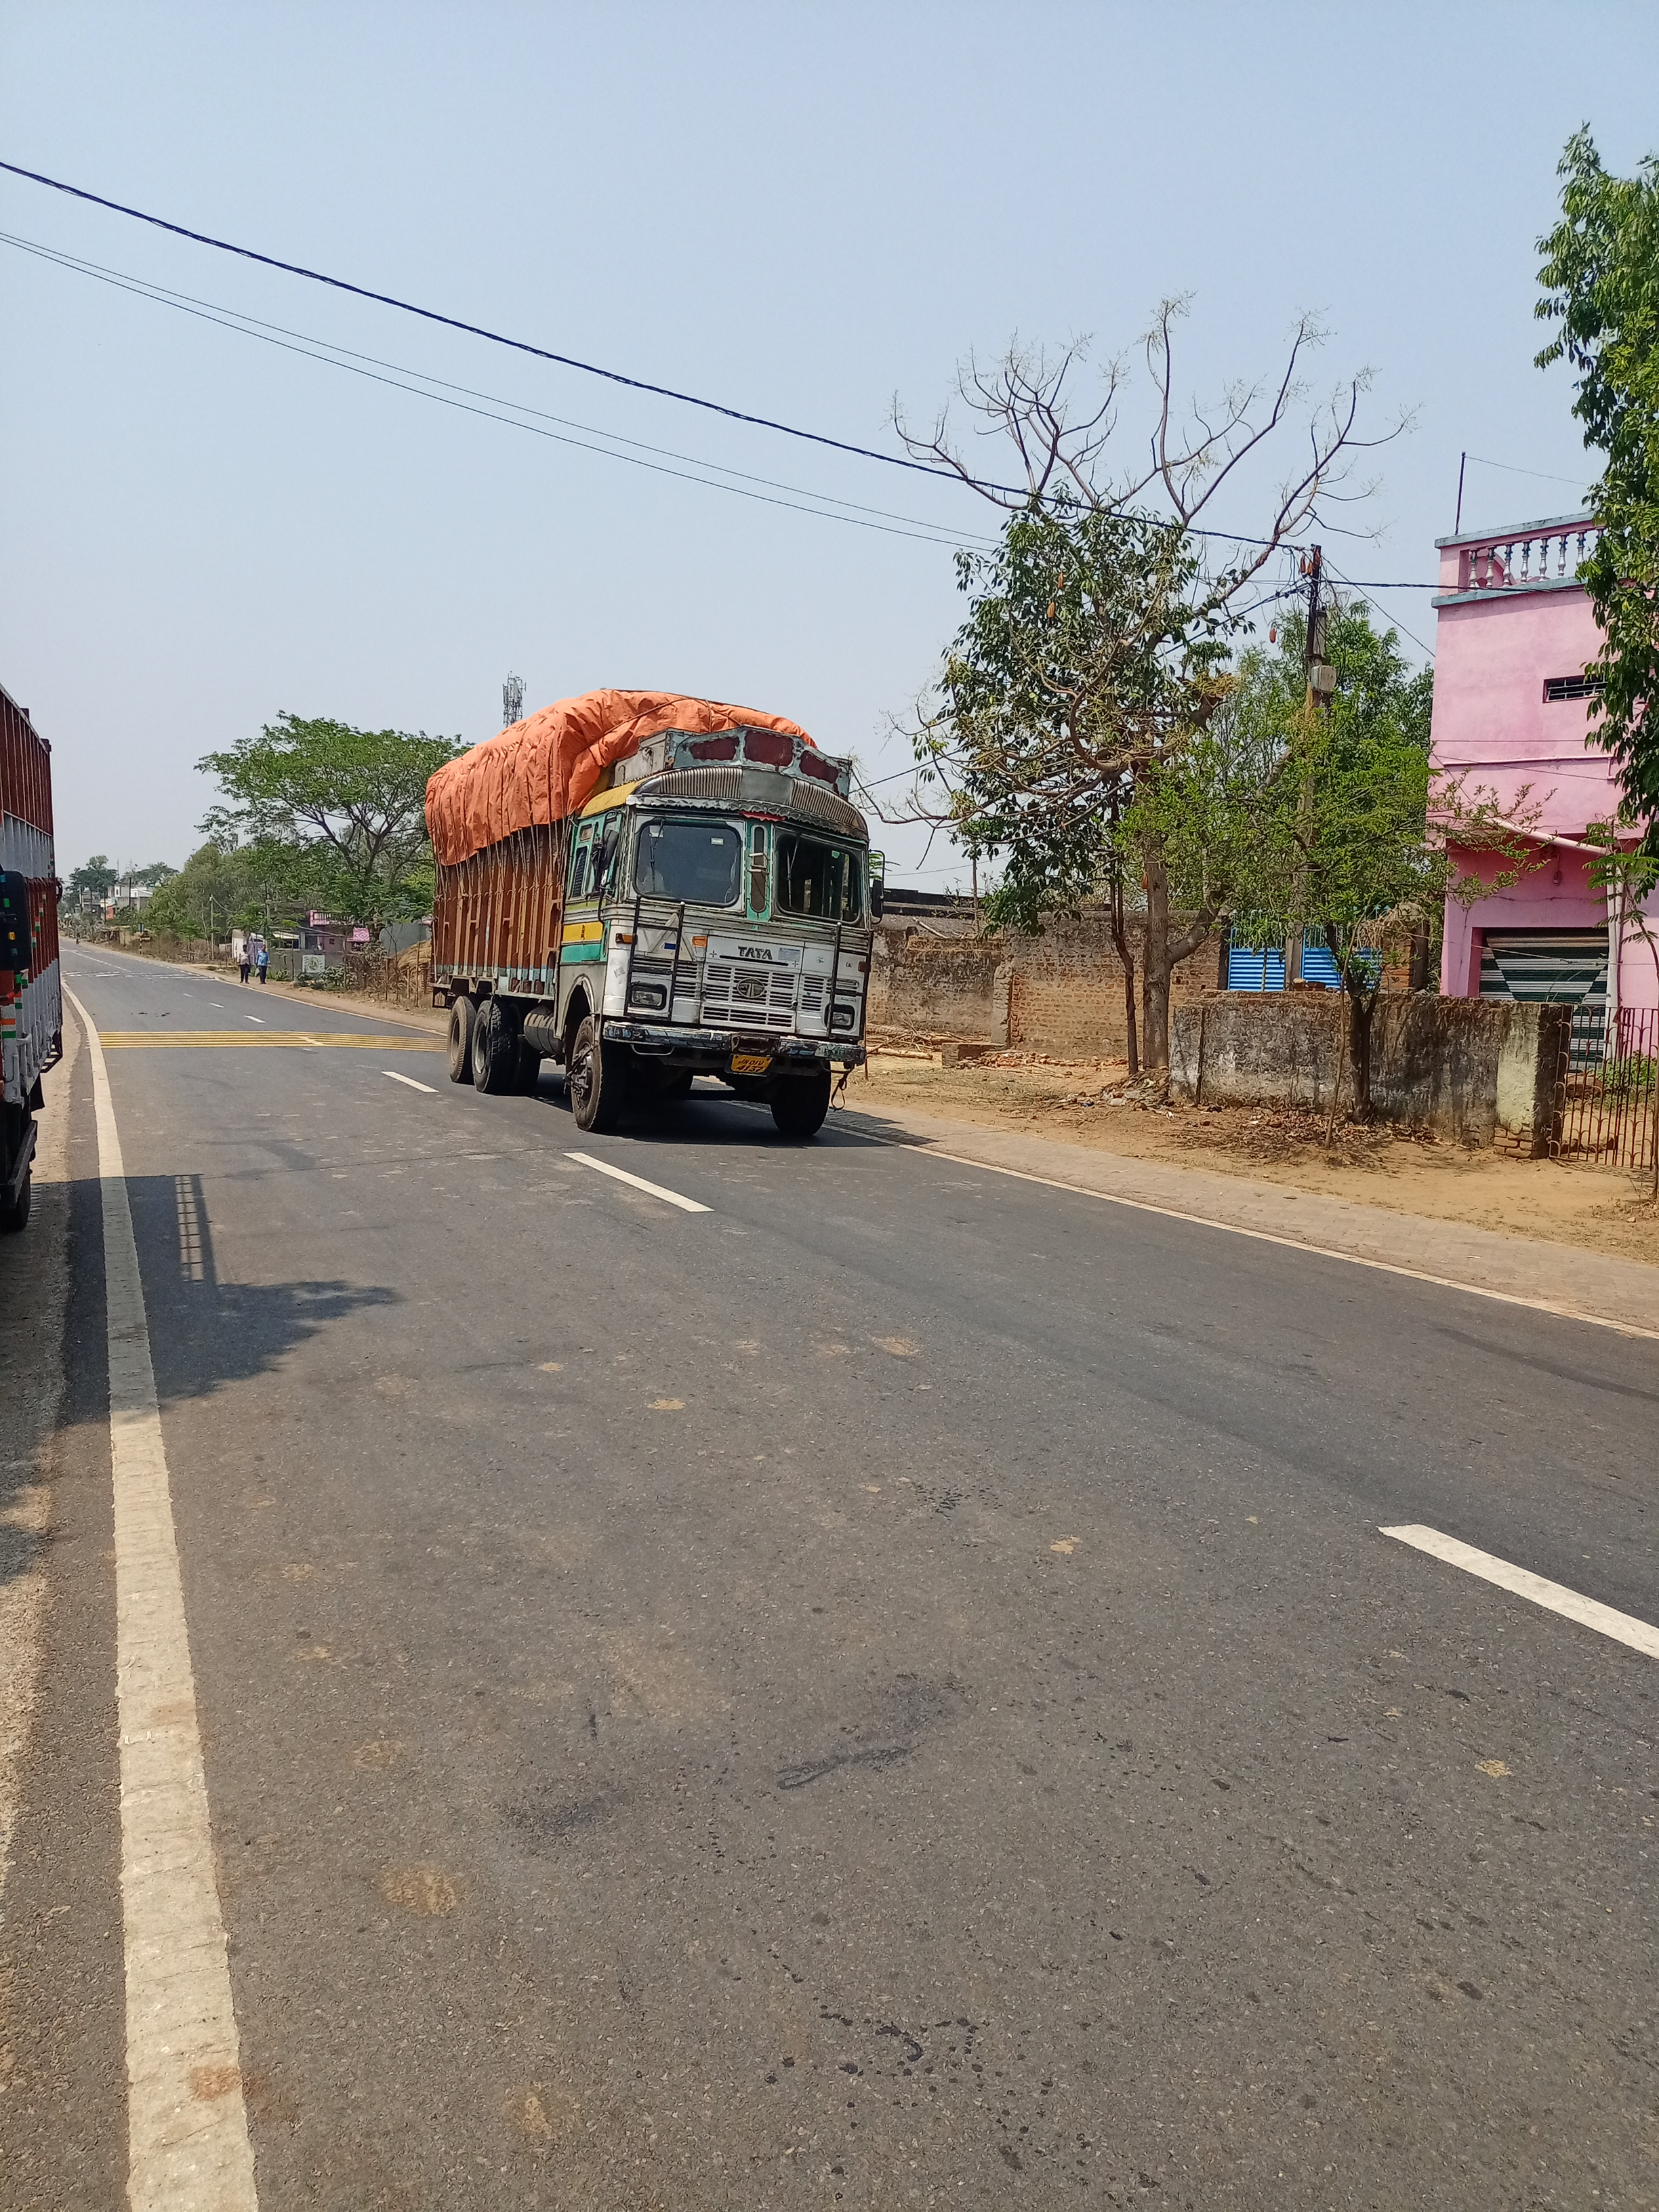truck: (423, 686, 887, 1139), (0, 676, 68, 1224)
